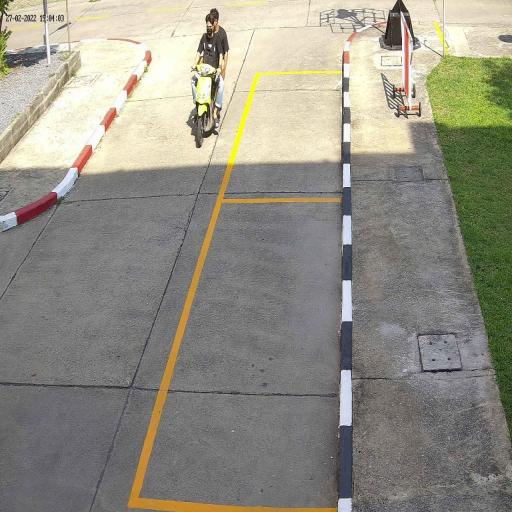motorcycle: (194, 62, 216, 149)
